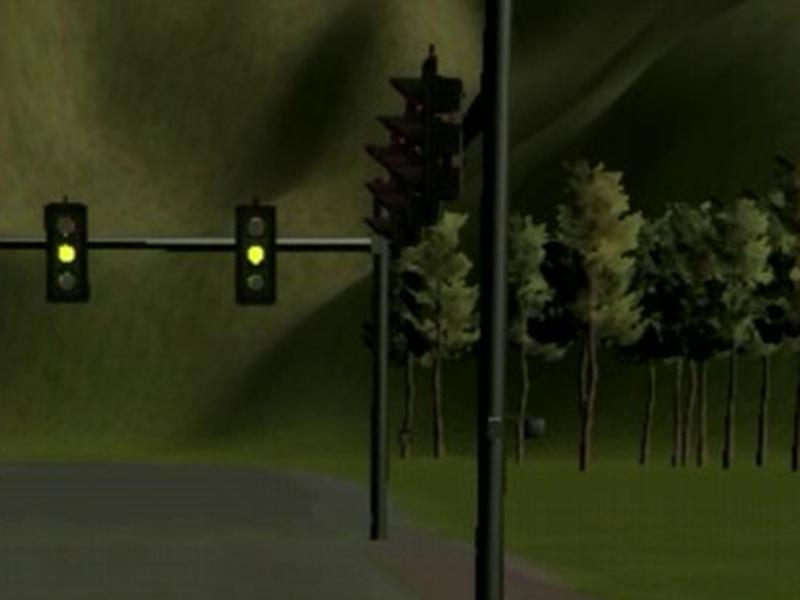Yellow: (44, 202, 89, 302), (236, 205, 276, 306)
